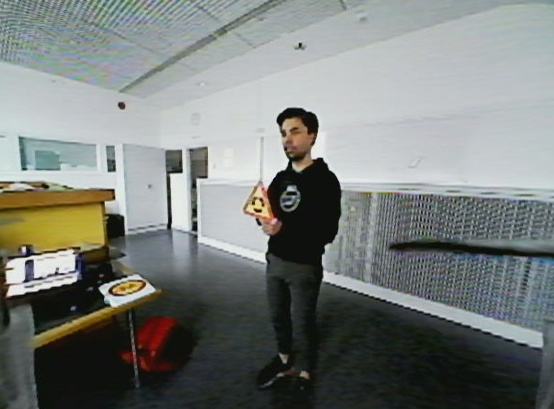roundabout_warning: (237, 177, 280, 226)
